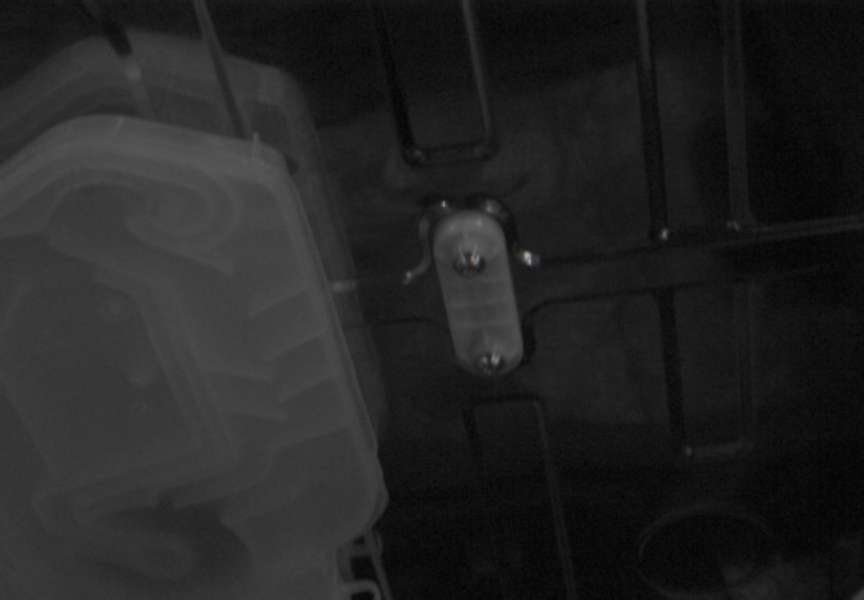screw: (453, 249, 486, 277), (475, 352, 506, 376)
